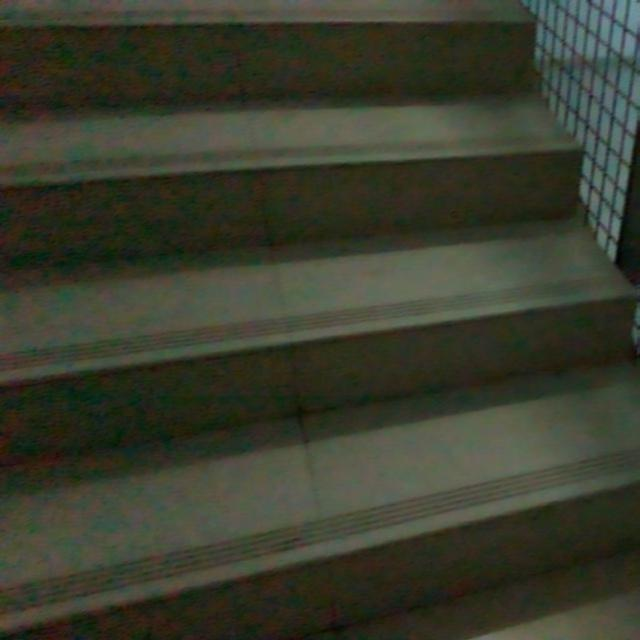stair: (0, 0, 619, 608)
